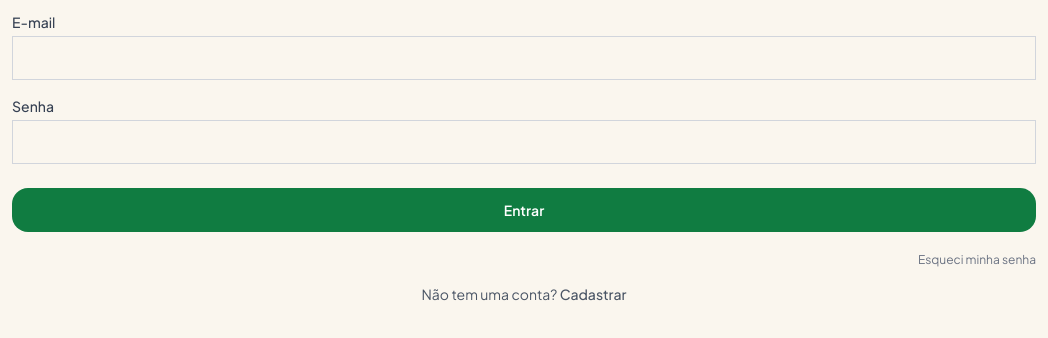
Test: LoginForm › should show validation error when password is empty
The image size is (1048, 338).
In the field labelled "E-mail": (524, 58) 12,36 -> 1036,80, type "joao@example.com"
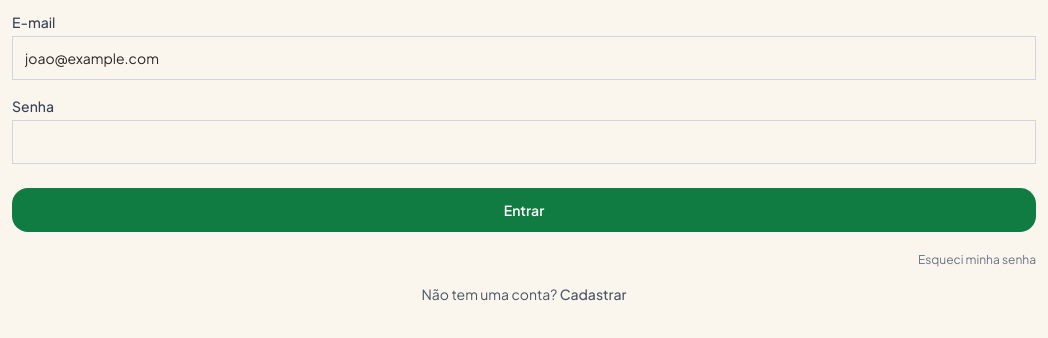
Click the button "Entrar": (524, 210) 12,188 -> 1036,232
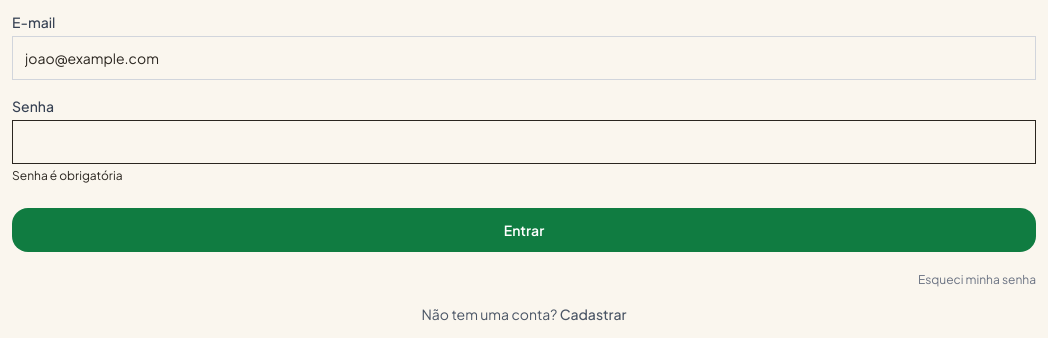
Expected: the text "Senha é obrigatória" is shown, 12,168 -> 122,183
